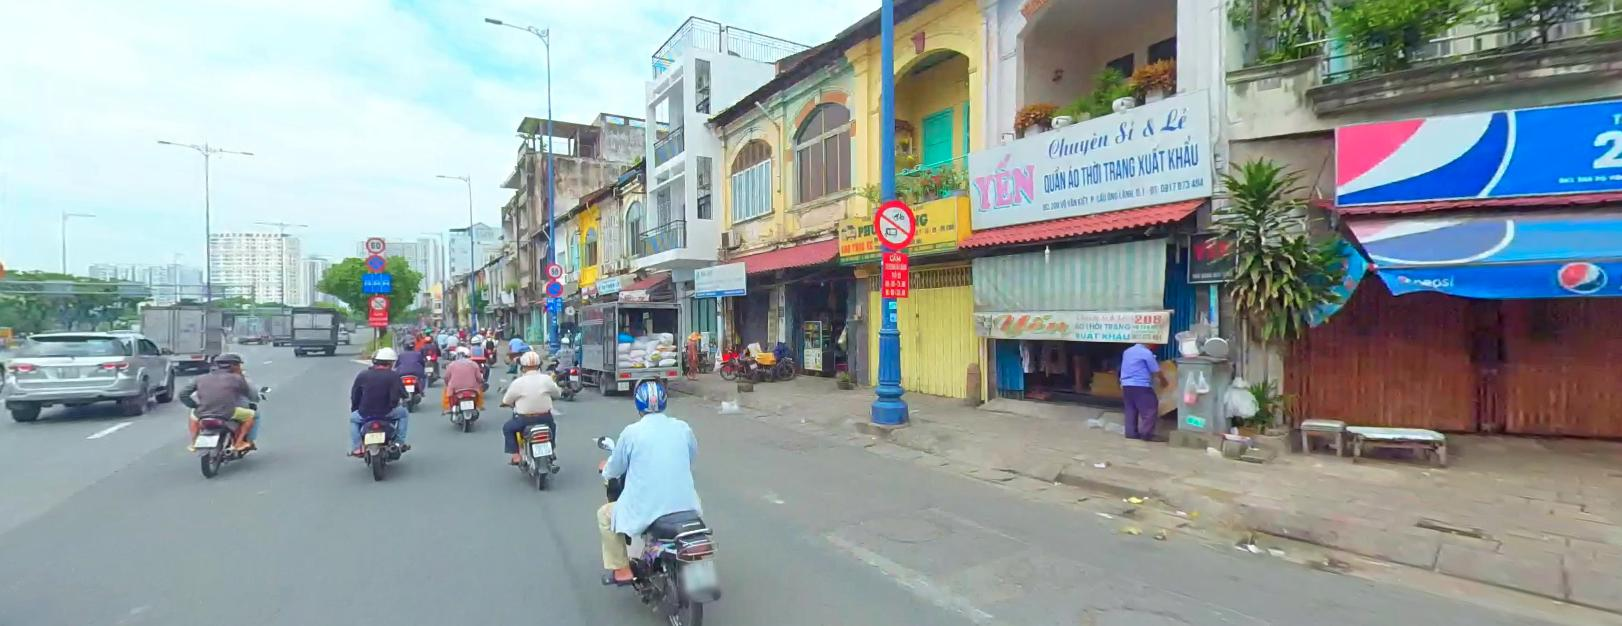Cam con lai: (873, 196, 917, 250), (369, 294, 388, 309)
Cam dung va do: (366, 254, 386, 270), (546, 279, 562, 295)
Gioi han toc do: (365, 236, 385, 254), (545, 262, 562, 277)
